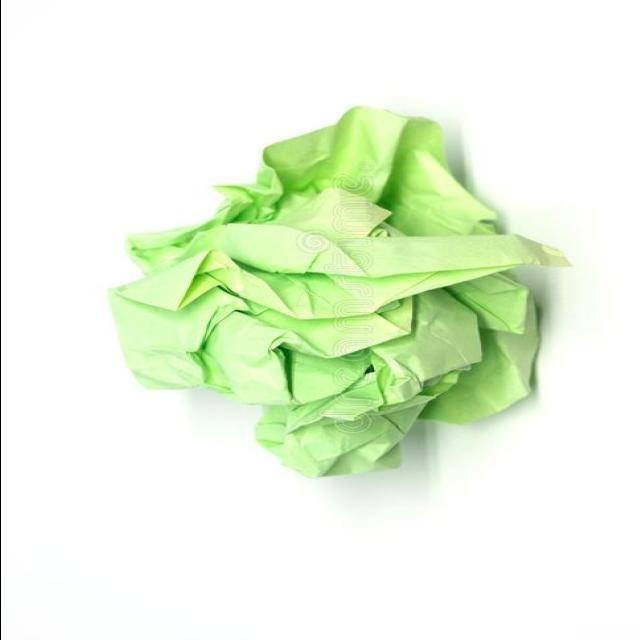kertas: (103, 105, 571, 479)
